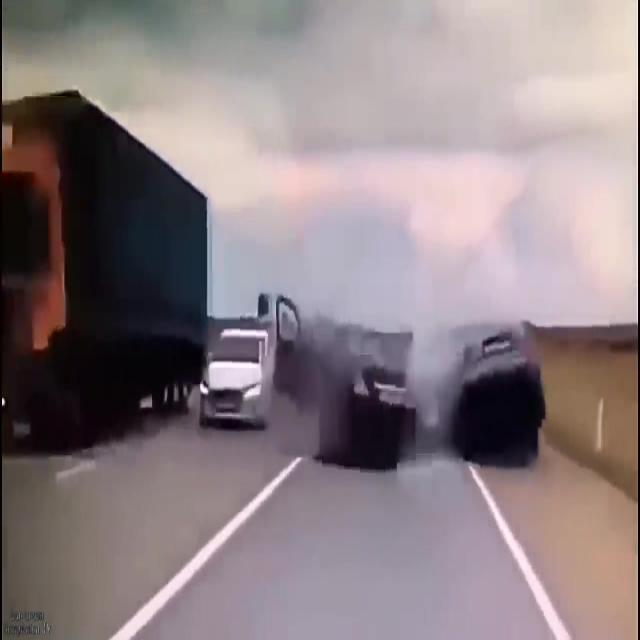accident: (289, 280, 566, 473)
